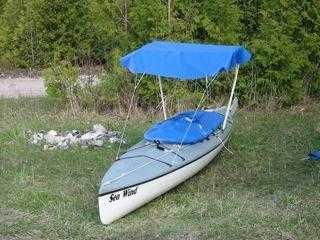kayak: (96, 39, 253, 225)
